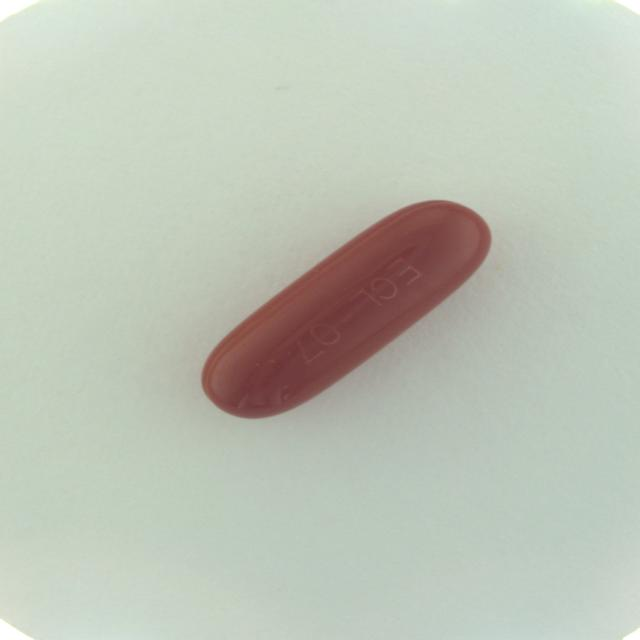Oval: (189, 193, 501, 426)
